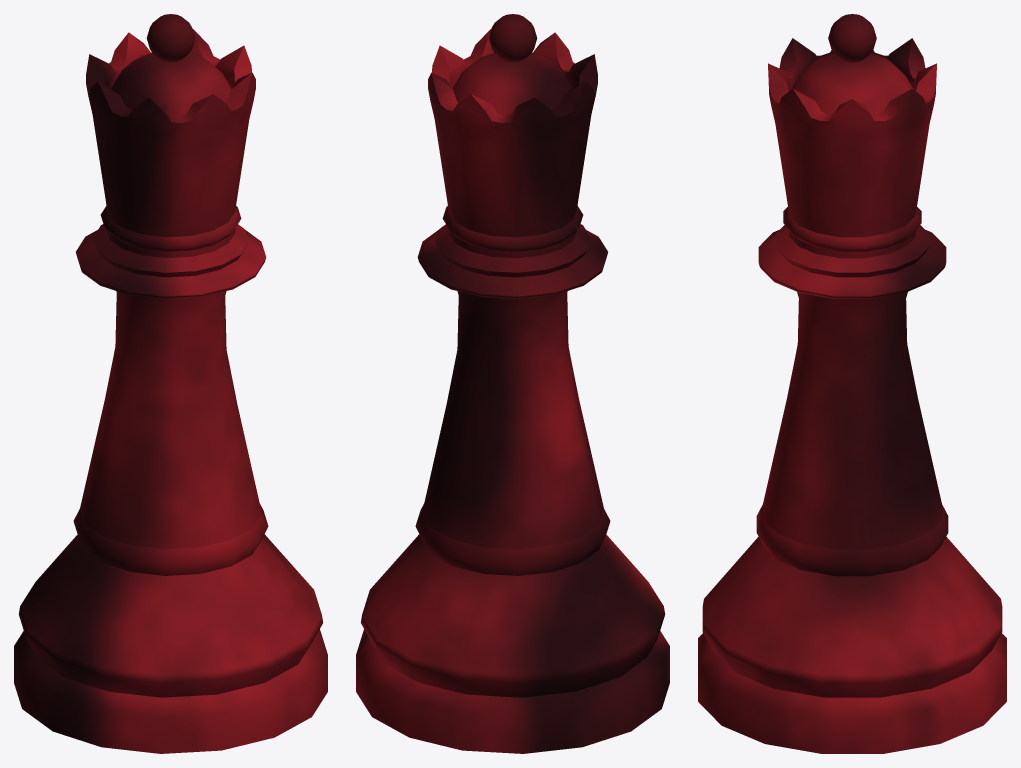
Rendered from item-4-3.glb.
The picture shows the model from 3 angles, left to right: view 1: azimuth 30°, elevation 25°; view 2: azimuth 150°, elevation 25°; view 3: azimuth 270°, elevation 25°; orthographic projection.
Parts seen in each view (by area): view 1: BlackQueen; view 2: BlackQueen; view 3: BlackQueen.
Boxes of the visible parts, x1,y1,x2,y2 form: BlackQueen: (14, 14, 327, 753); BlackQueen: (356, 14, 669, 753); BlackQueen: (698, 14, 1006, 753).
Size of the model in its own units: 0.0968 by 0.2326 by 0.0968.
Materials: 1 (1 with a texture image).
